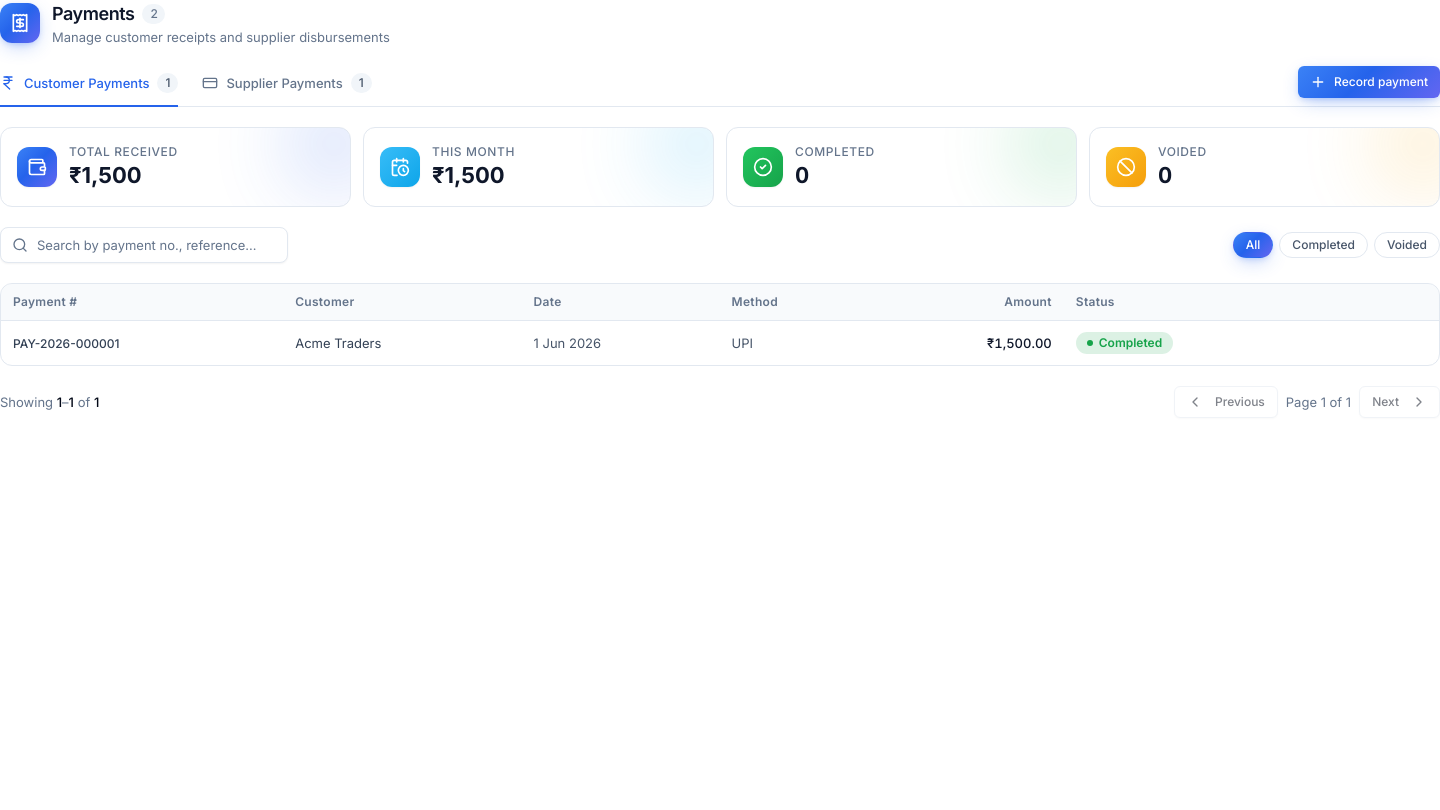
Scenario: PaymentsView › opens the record customer payment dialog
The width and height of the screenshot is (1440, 810).
Click the button "Record payment": point(1369, 82) x1=1298 y1=66 x2=1439 y2=98
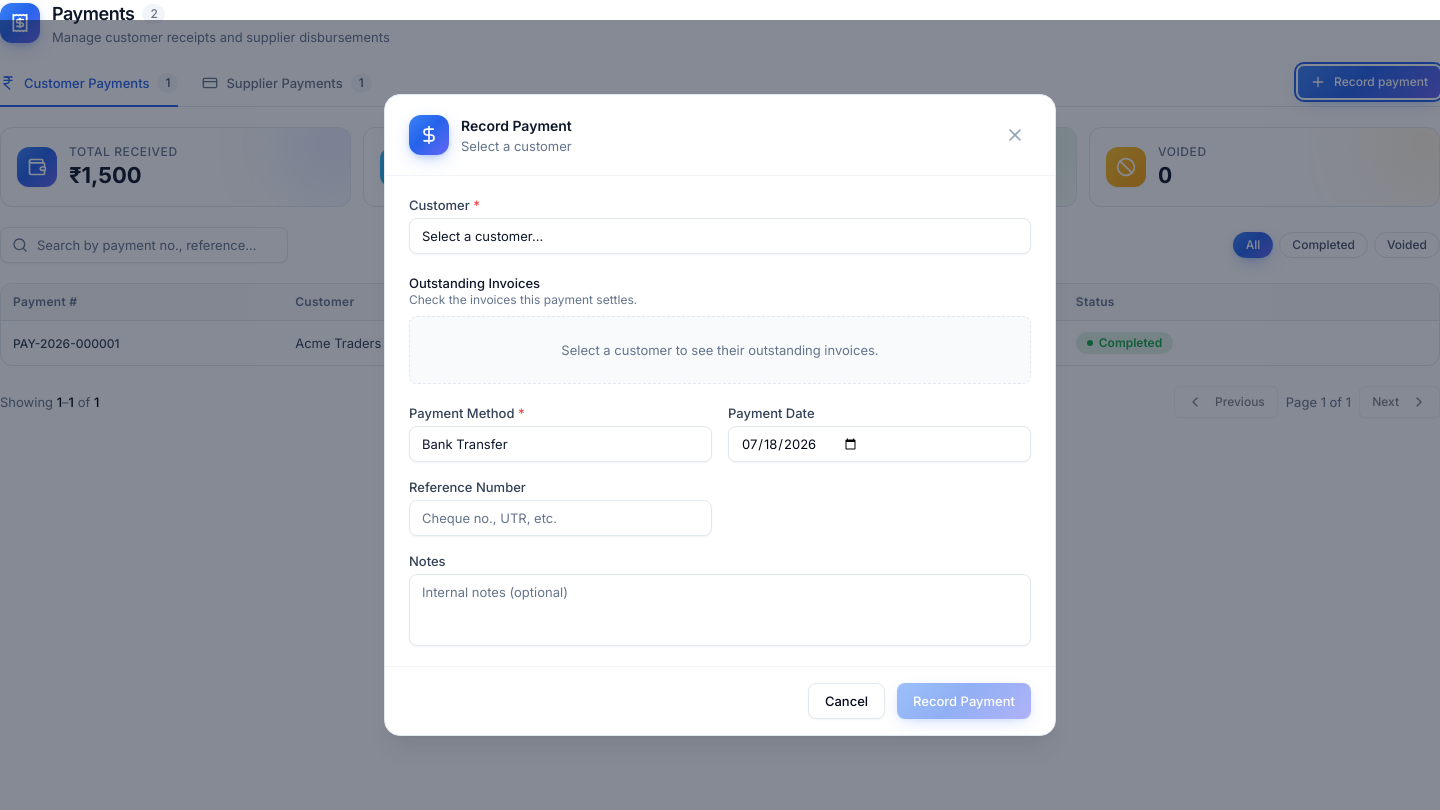
Now the dialog named "record customer payment" is shown
